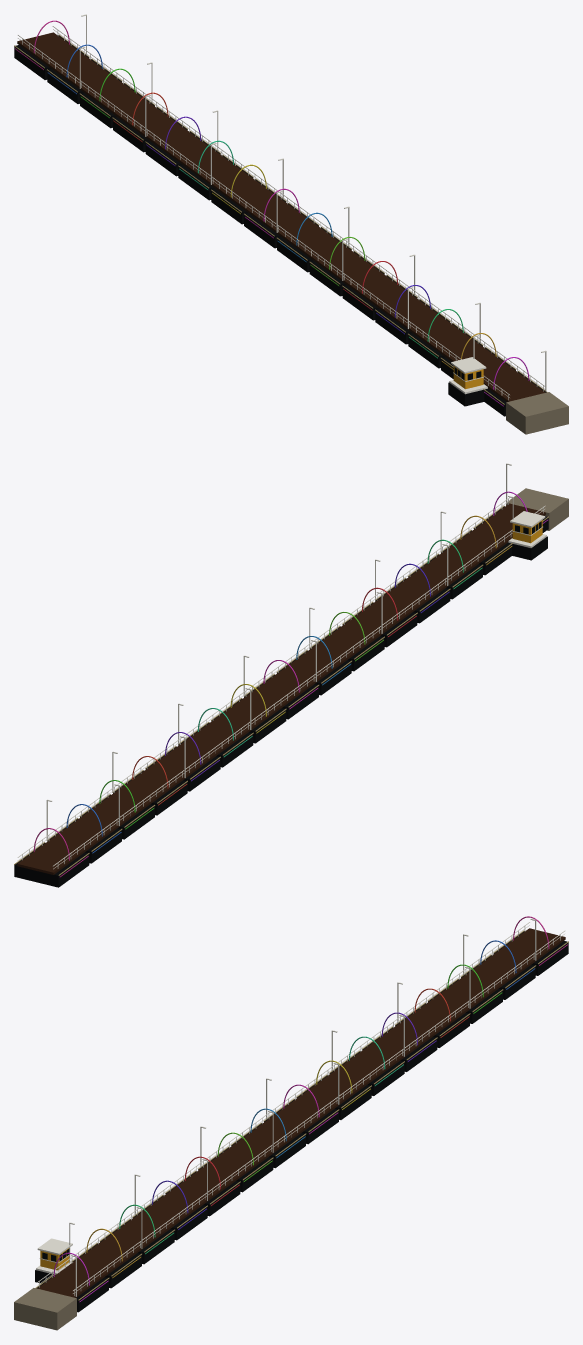
Rendered from queen_emma_bridge.obj.
3 views of the same model, one above another, from view 1: azimuth 30°, elevation 25°; view 2: azimuth 150°, elevation 25°; view 3: azimuth 330°, elevation 25° (orthographic).
Visible parts, largest first — view 1: Deck, Pontoons, Railings, Landing, Rims; view 2: Deck, Pontoons, Railings, Rims, Landing; view 3: Deck, Pontoons, Railings, Landing, Rims.
Part boxes in pixels (x1,y1,x2,y2): Deck: (17,32,545,401); Pontoons: (14,35,546,416); Railings: (18,14,546,400); Landing: (506,392,568,434); Rims: (14,34,547,404); Deck: (17,503,545,874); Pontoons: (14,506,548,887); Railings: (17,463,546,869); Rims: (14,505,548,875); Landing: (506,488,568,530); Deck: (37,928,565,1297); Pontoons: (35,931,568,1312); Railings: (36,918,565,1296); Landing: (14,1288,76,1330); Rims: (35,930,568,1300).
Bounding box in the file's own units: 11.27 × 9.81 × 156.
